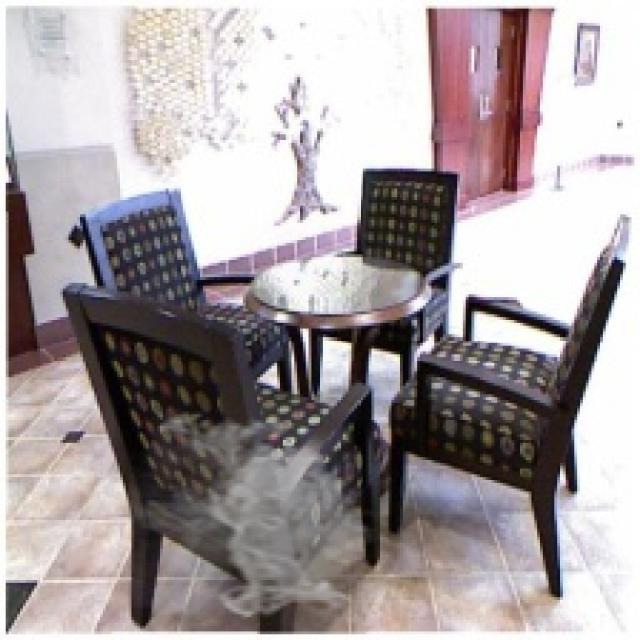smoke: (129, 406, 377, 623)
